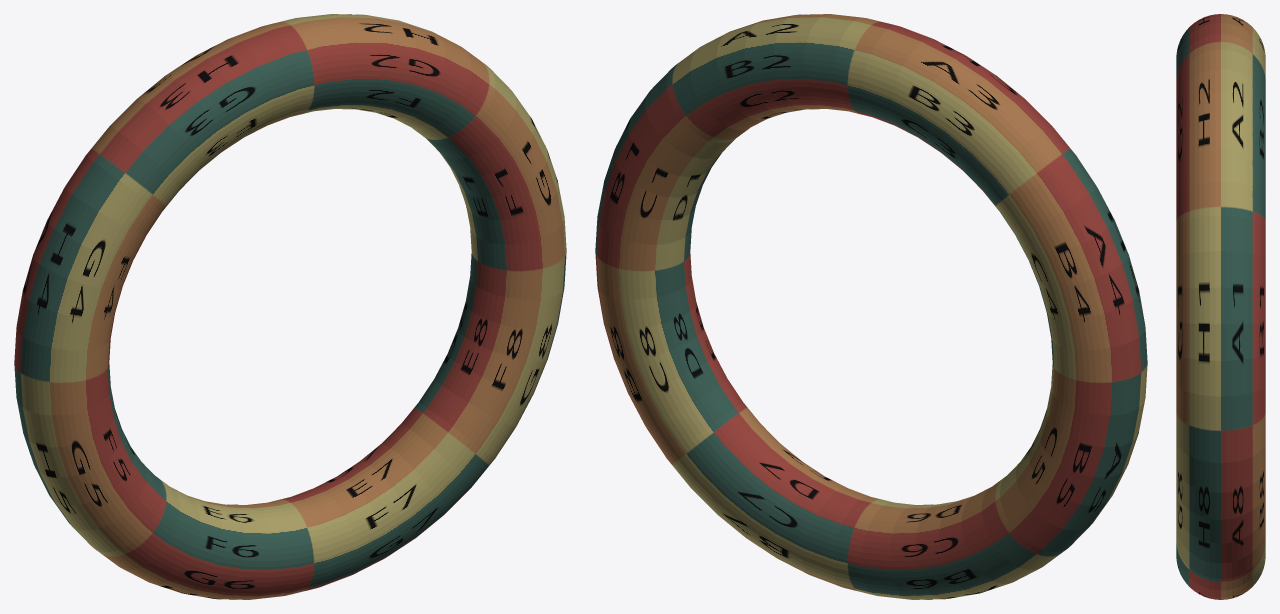
Rendered from texture_torus_R15_r6.glb.
3 renders of one model, left to right at view 1: azimuth 30°, elevation 25°; view 2: azimuth 150°, elevation 25°; view 3: azimuth 270°, elevation 25°, orthographic. The views are drawn at different scales.
Visible parts, largest first — view 1: world; view 2: world; view 3: world.
Part boxes in pixels (bbox=[...]): world: bbox=[14, 14, 566, 599]; world: bbox=[595, 14, 1147, 599]; world: bbox=[1176, 14, 1265, 599].
Size of the model in its own units: 23.6 by 23.55 by 3.59.
Materials: 1 (1 with a texture image).
